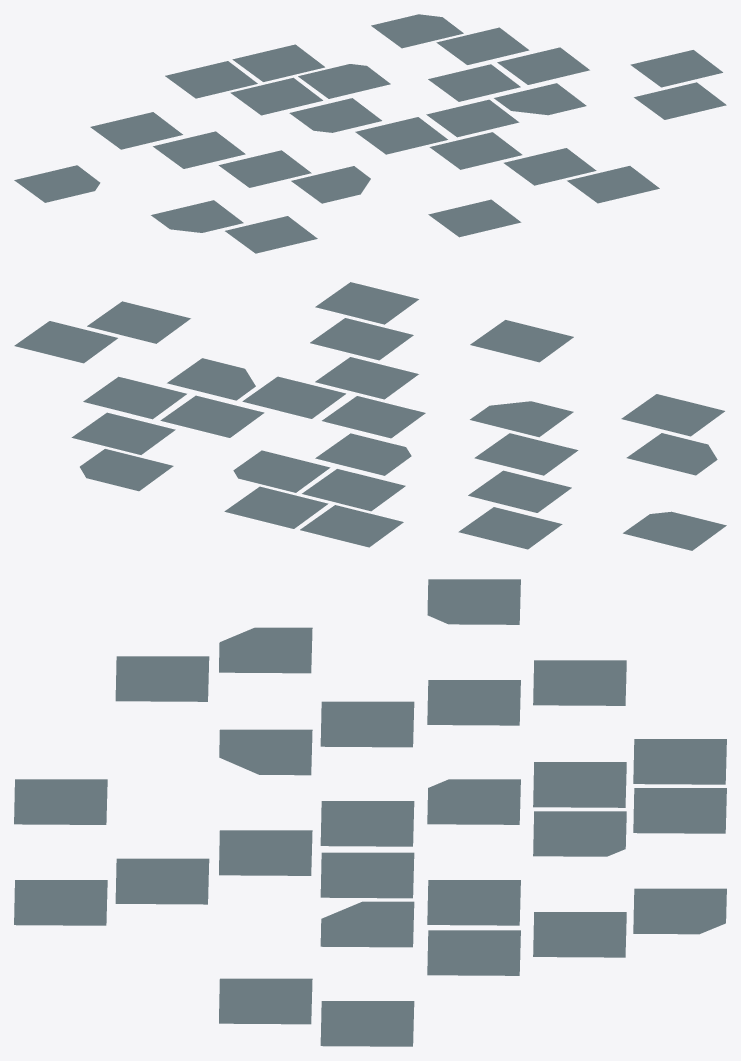
File: Tiles 01.FBX
3 renders of one model, top to bottom at view 1: azimuth 30°, elevation 25°; view 2: azimuth 150°, elevation 25°; view 3: azimuth 270°, elevation 25°, orthographic. The views are drawn at different scales.
Parts seen in each view (by area): view 1: Tiles 01; view 2: Tiles 01; view 3: Tiles 01.
Boxes of the visible parts, bbox=[...] form: Tiles 01: bbox=[14, 14, 726, 253]; Tiles 01: bbox=[14, 282, 726, 550]; Tiles 01: bbox=[14, 579, 726, 1046].
Bounding box in the file's own units: 668 × 5.36e-07 × 430.
